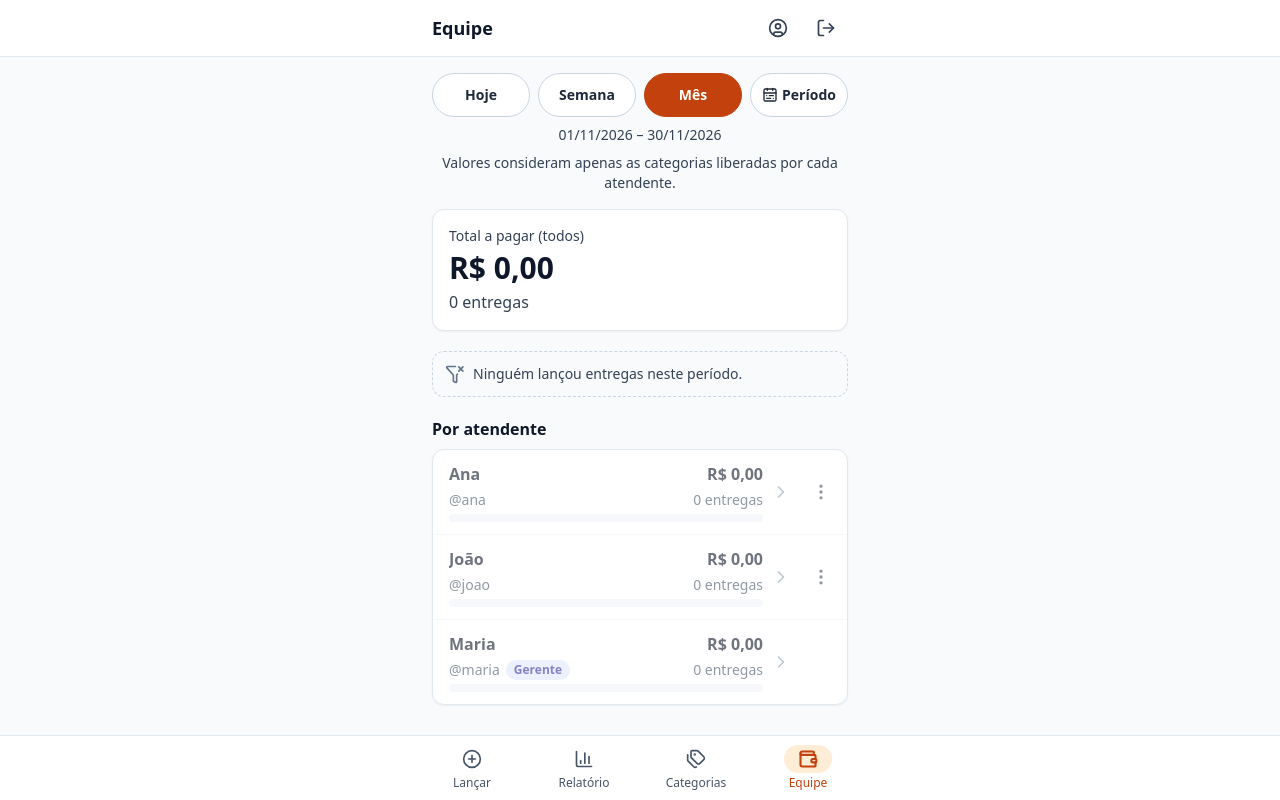
Test: Equipe: Redefinir senha (spec 010) › gerente redefine a senha do atendente: nova + confirmação → reset_password
Click the button named "Ações de João" at (821, 577), box left=799, top=555, right=843, bottom=599
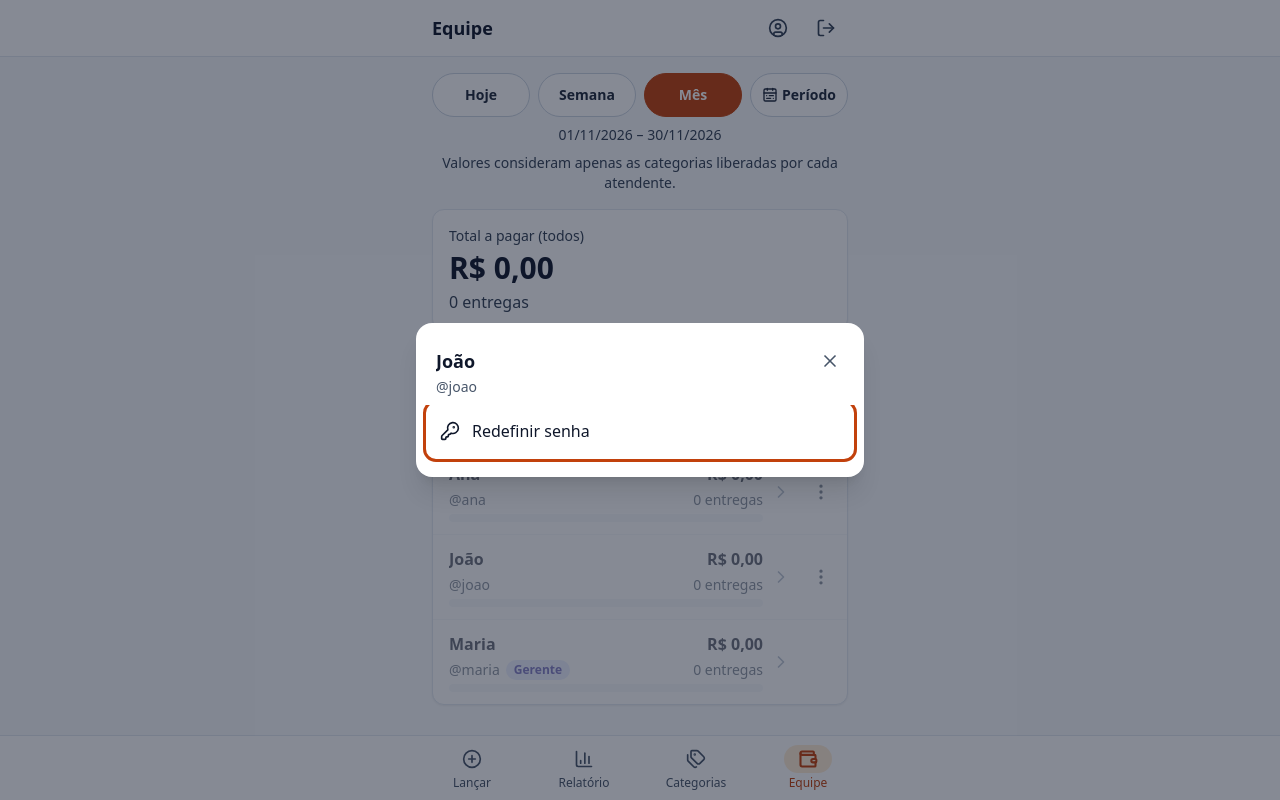
Click the button "Redefinir senha" at (531, 431), box left=428, top=405, right=852, bottom=457
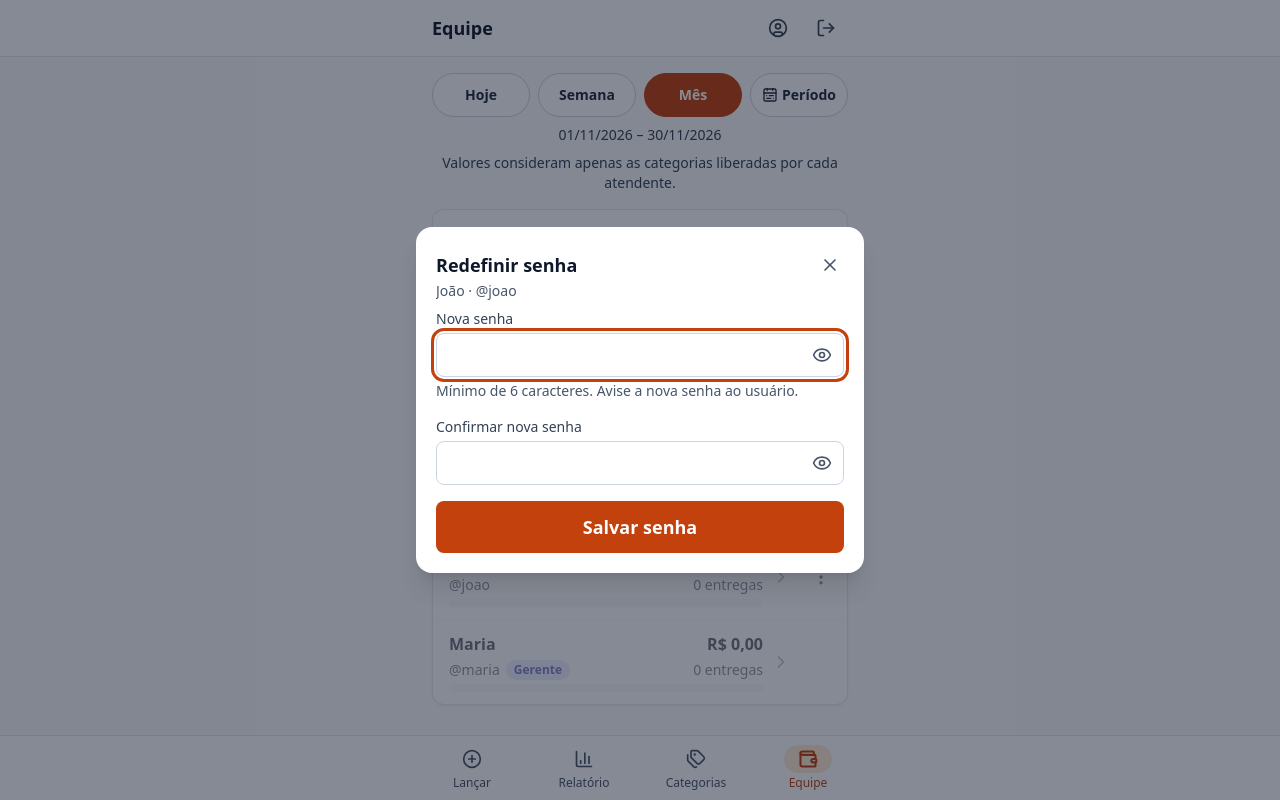
Type "nova123" into the password field labelled "Nova senha" at (640, 355), box left=436, top=333, right=844, bottom=377
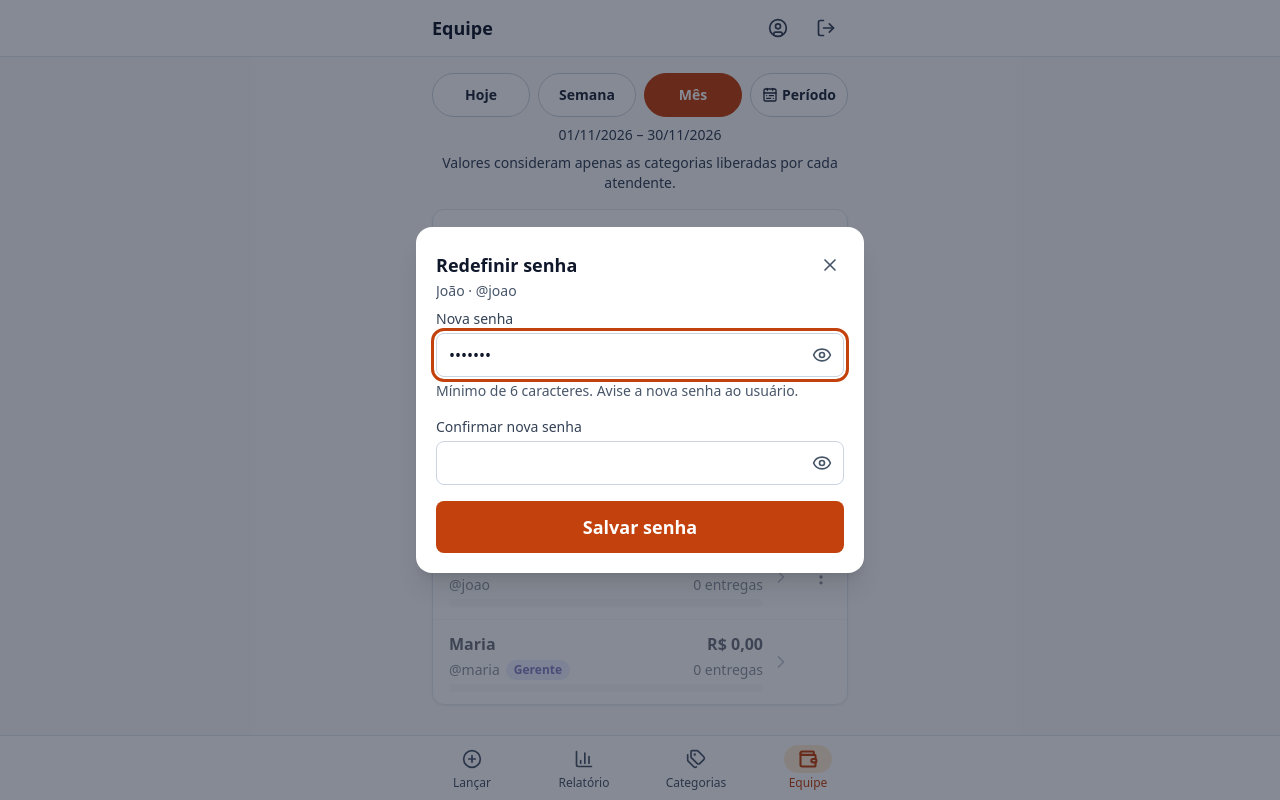
Type "nova123" into the password field labelled "Confirmar nova senha" at (640, 463), box left=436, top=441, right=844, bottom=485
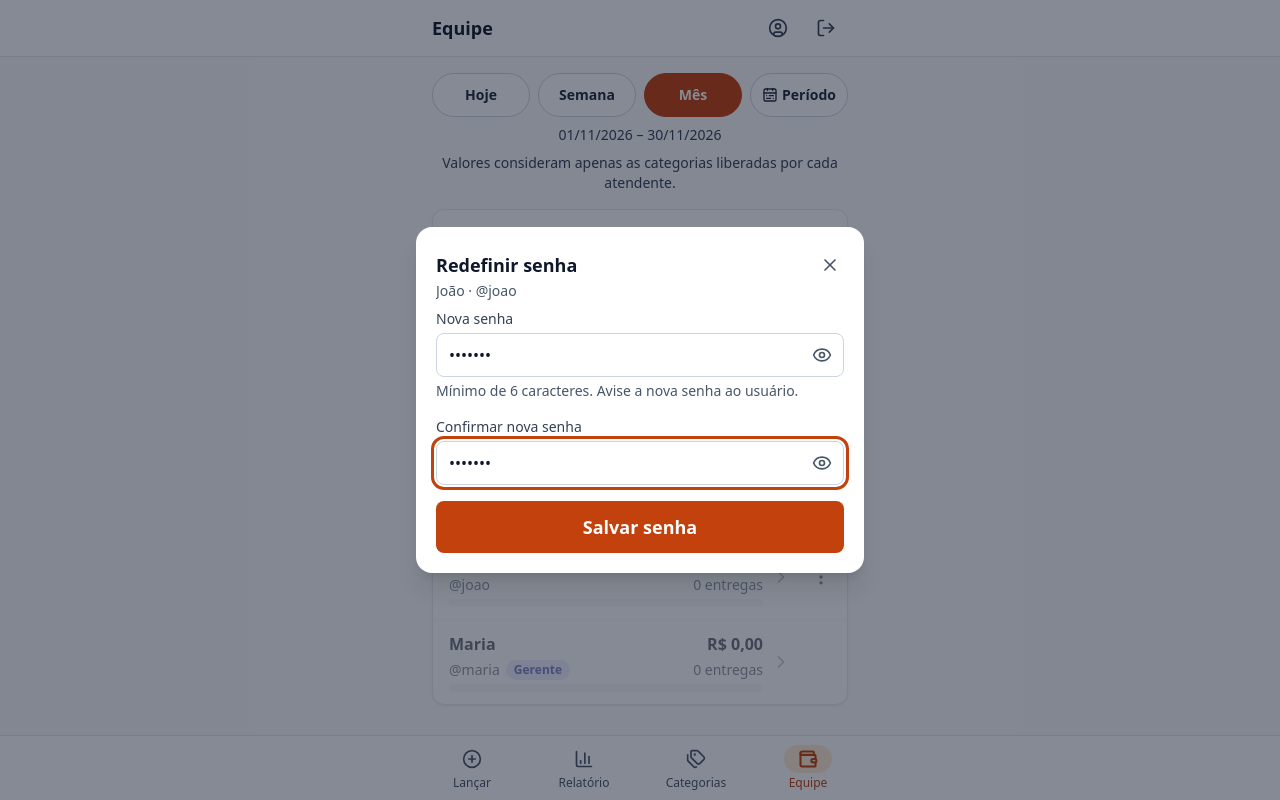
Click the button "Salvar senha" at (640, 527), box left=436, top=501, right=844, bottom=553
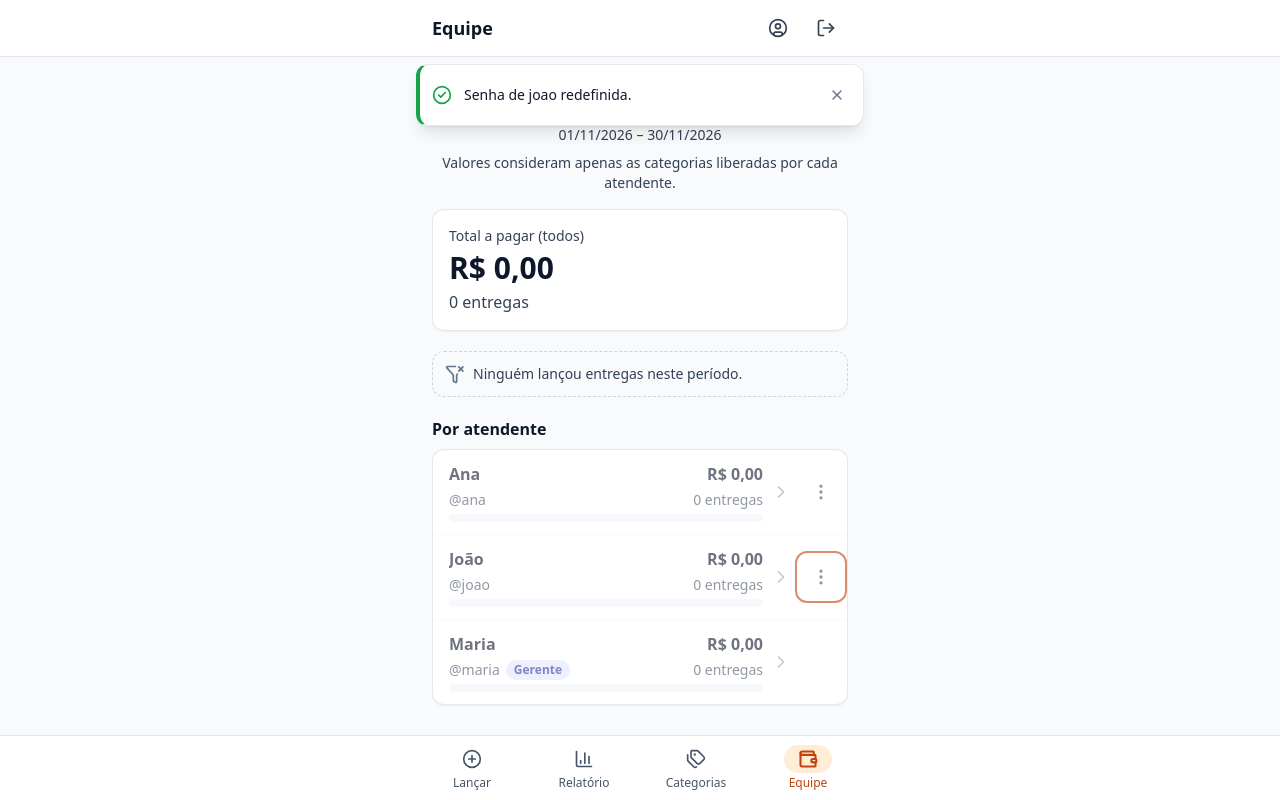
Now the message reads "Senha de joao redefinida.", box left=464, top=85, right=631, bottom=104
Now the dialog is gone
